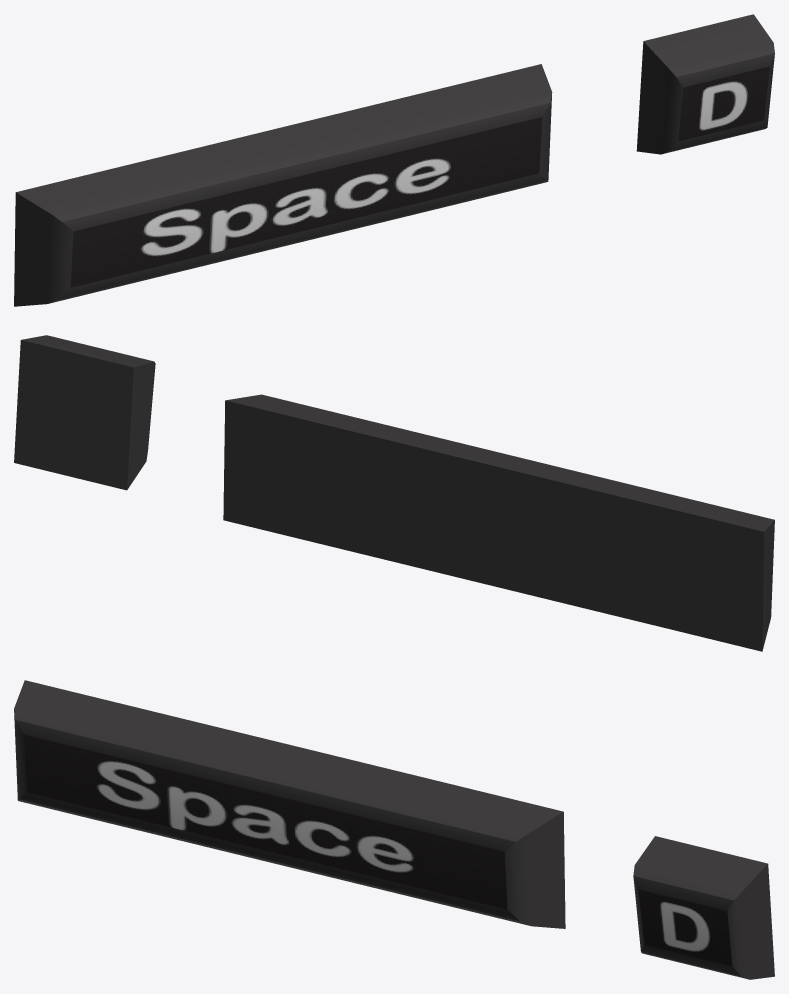
File: spaceWITHd.fbx
The picture shows the model from 3 angles, top to bottom: view 1: azimuth 30°, elevation 25°; view 2: azimuth 150°, elevation 25°; view 3: azimuth 330°, elevation 25°; orthographic projection. The views are drawn at different scales.
Parts seen in each view (by area): view 1: spaceKey, dKey; view 2: spaceKey, dKey; view 3: spaceKey, dKey.
Part boxes in pixels (x1,y1,x2,y2): spaceKey: (14, 64, 552, 306); dKey: (636, 14, 774, 154); spaceKey: (223, 394, 774, 651); dKey: (14, 335, 155, 490); spaceKey: (14, 680, 565, 928); dKey: (633, 836, 774, 979).
Size of the model in its own units: 6.61 by 1.04 by 0.567.
Materials: 3 (2 with a texture image).
